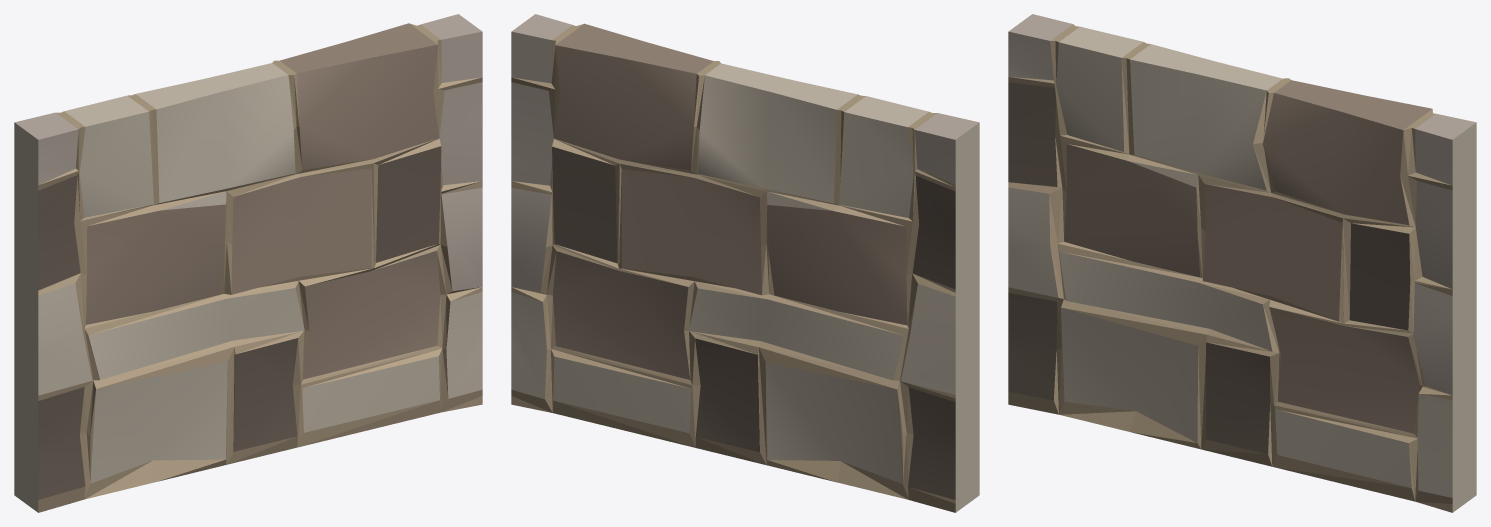
The model's file is RG-Dungeon_Wall-01.fbx.
3 renders of one model, left to right at view 1: azimuth 30°, elevation 25°; view 2: azimuth 150°, elevation 25°; view 3: azimuth 330°, elevation 25°, orthographic.
Parts seen in each view (by area): view 1: RG-Dungeon_Wall-01; view 2: RG-Dungeon_Wall-01; view 3: RG-Dungeon_Wall-01.
Boxes of the visible parts, x1,y1,x2,y2 form: RG-Dungeon_Wall-01: (14,14,482,512); RG-Dungeon_Wall-01: (511,14,979,512); RG-Dungeon_Wall-01: (1008,14,1476,512).
Size of the model in its own units: 20 by 16.05 by 2.77.
